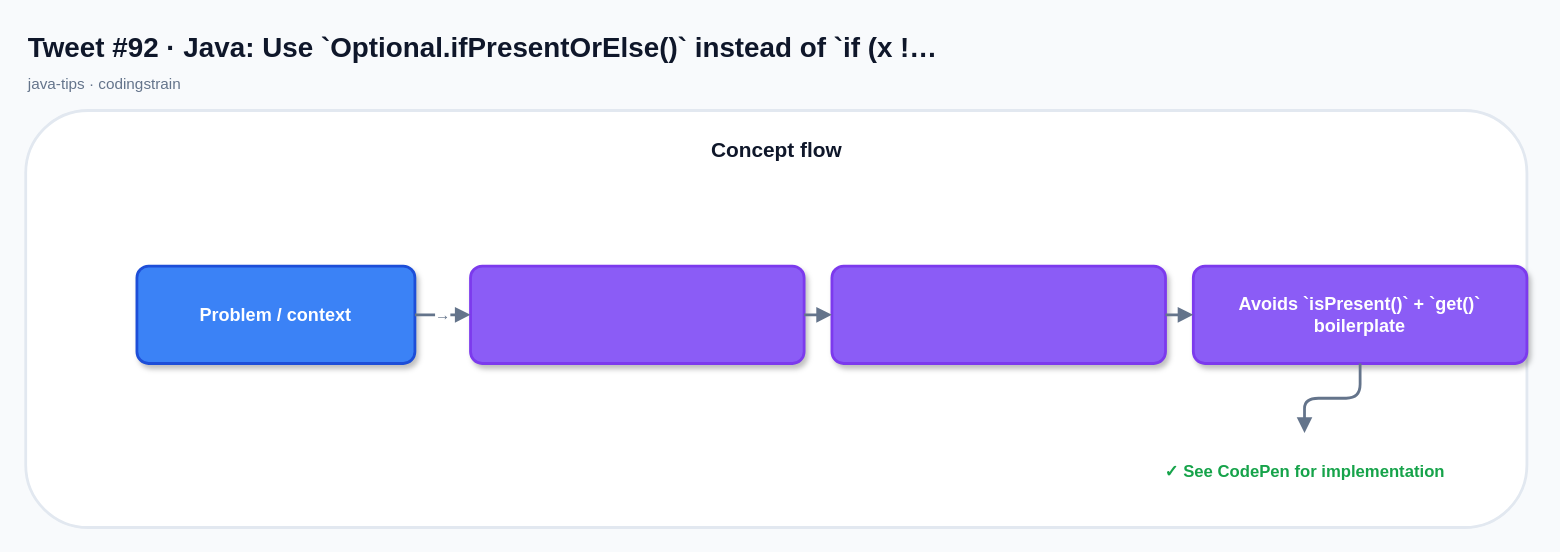
The diagram is 1560 pixels wide and 552 high, and some of its shapes have lost their labels. Here are the shapes that lost their labels. From the top down, the centre of each, then its label:
At point 638,316: "💡 Java: Use `Optional.ifPresentOrElse()` instead of `if (x != null)`.".
At point 999,316: "One call handles present and empty cases".
